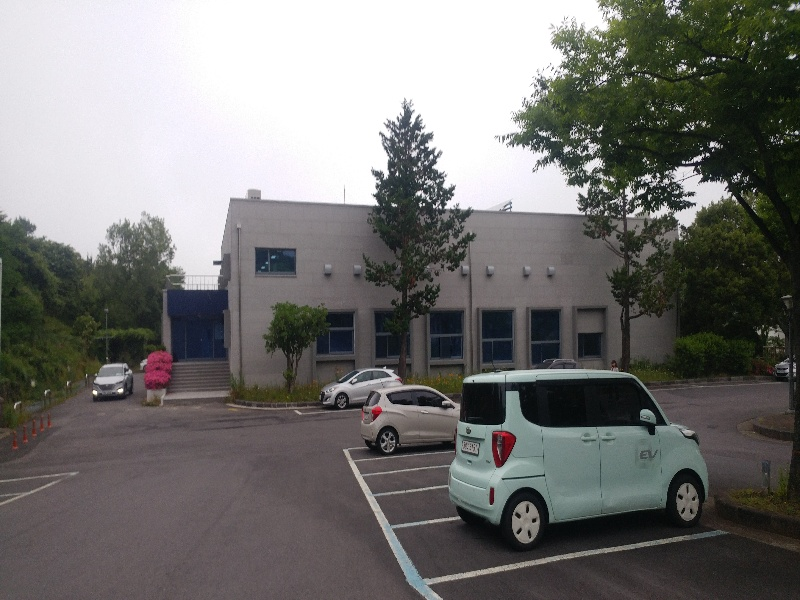College Of Education: (153, 201, 678, 366), (148, 275, 242, 405)
